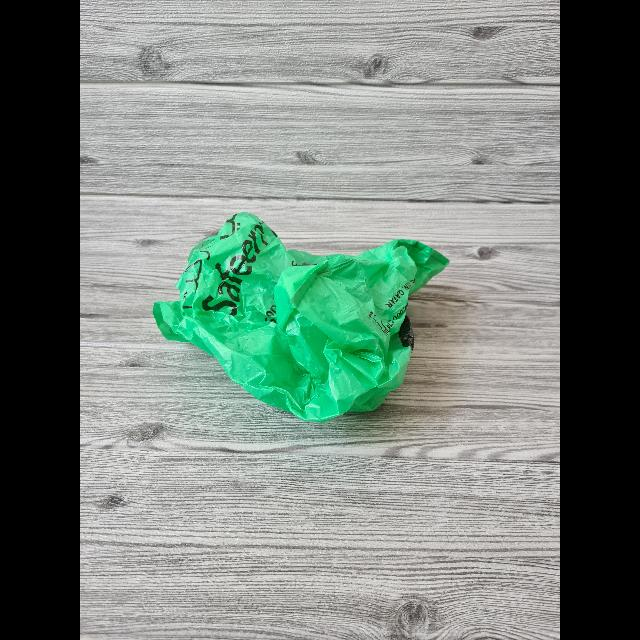plastic_bag: (156, 205, 448, 423)
